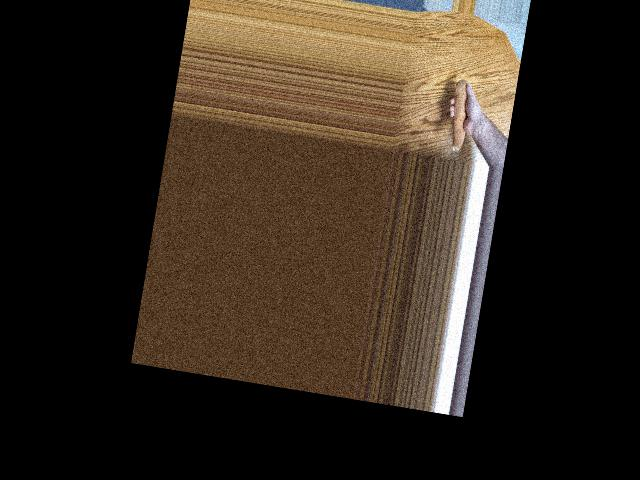sweet_potato: (443, 77, 479, 155)
